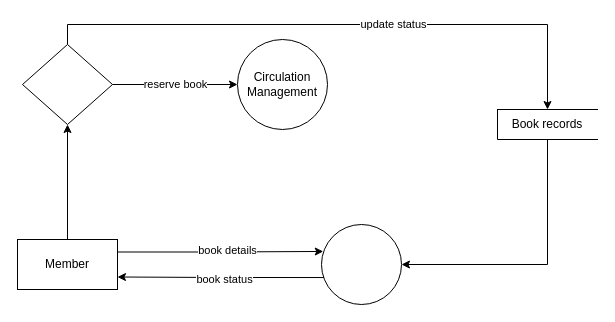
The diagram is 615 pixels wide and 322 high, and some of its shapes have lost their labels. Here are the shapes that lost their labels. From the top down, the box of each, then its label:
(22, 44, 112, 124): if status = 'Y'
(320, 224, 402, 304): Book search
